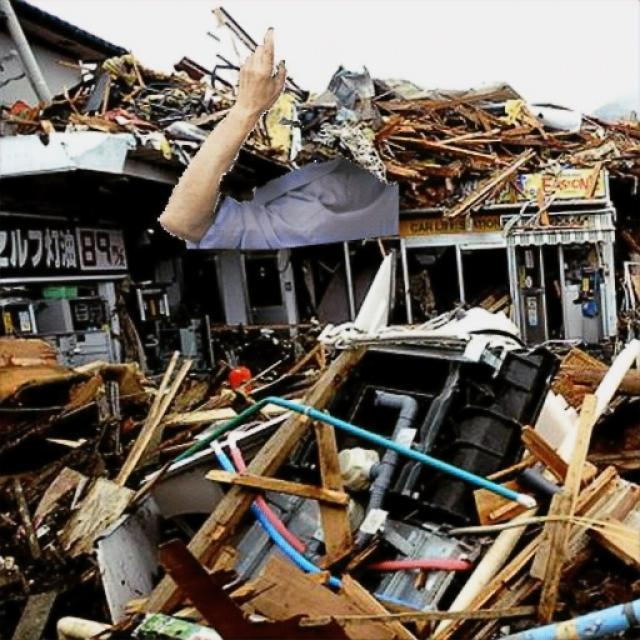Person in Rubble: (158, 28, 398, 248)
